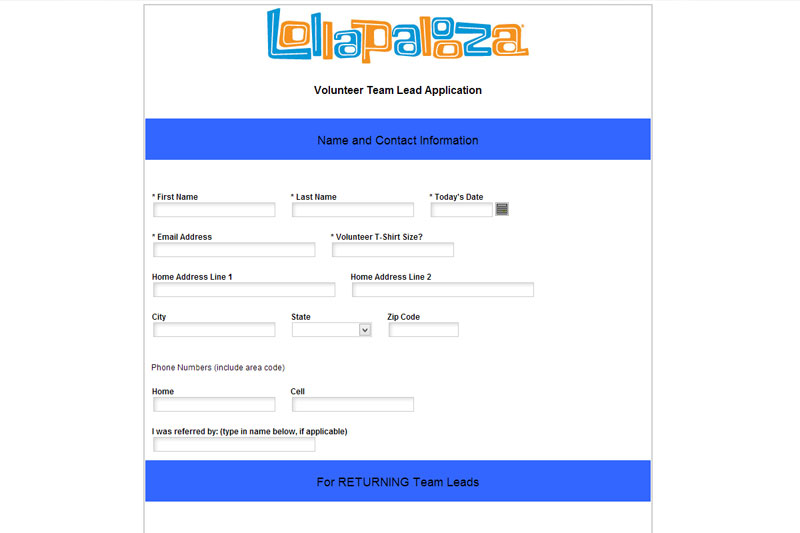dropdown: (289, 321, 374, 343)
textbox: (289, 394, 422, 420), (150, 320, 281, 341), (153, 395, 280, 415)
